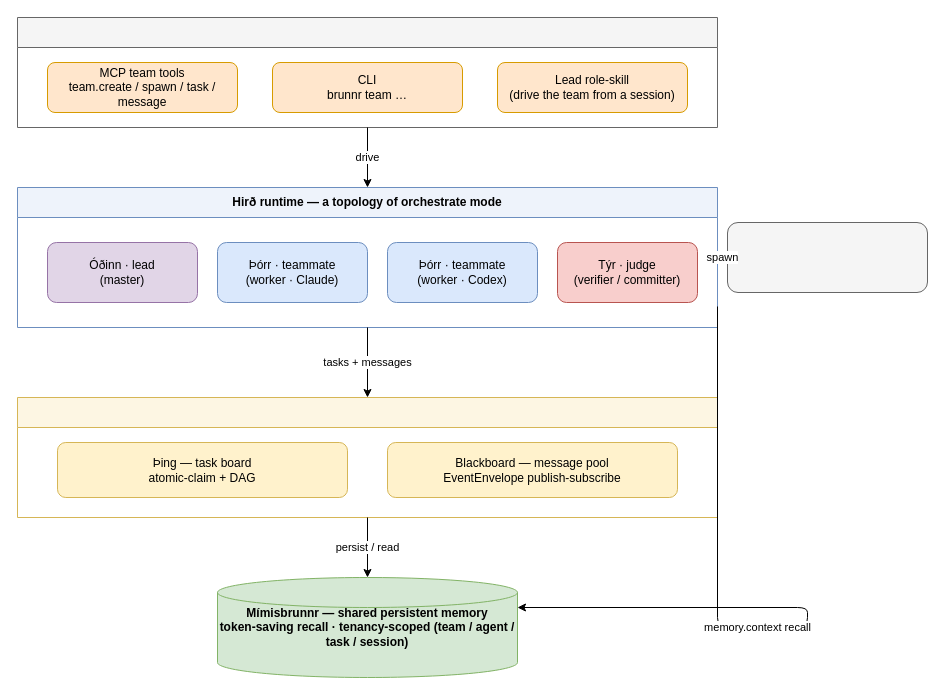
Image size: 945x695. Some labels were removed from this diagram. Here are the shapes that lost their labels. From the top down, the box of each, then its label:
(16, 16, 718, 128): Surfaces
(726, 222, 928, 292): Supervised spawns process group · registry · reaper
(16, 396, 718, 518): Coordination substrate
